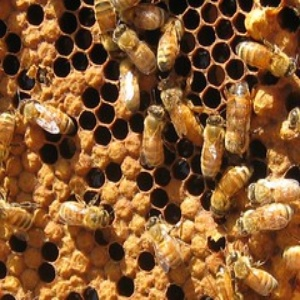bee: (225, 249, 278, 296), (146, 217, 186, 273), (20, 99, 75, 135), (59, 196, 112, 231), (142, 103, 162, 169), (239, 206, 294, 230), (205, 115, 221, 177), (249, 182, 299, 201)
